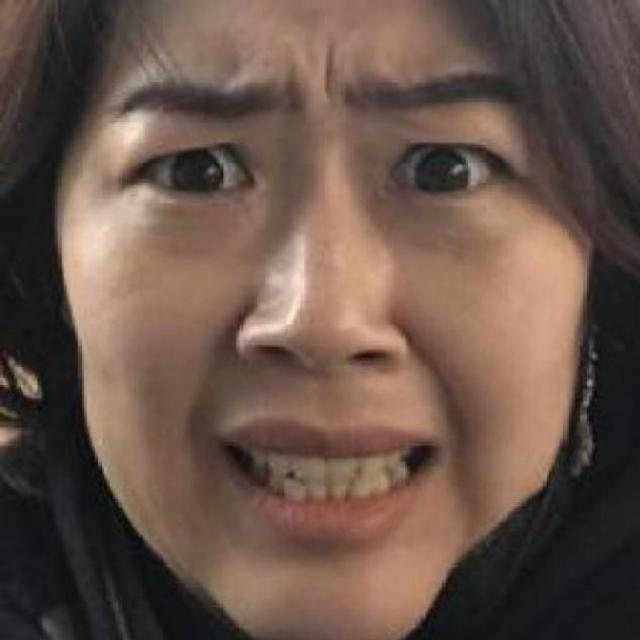Angry: (65, 62, 586, 629)
